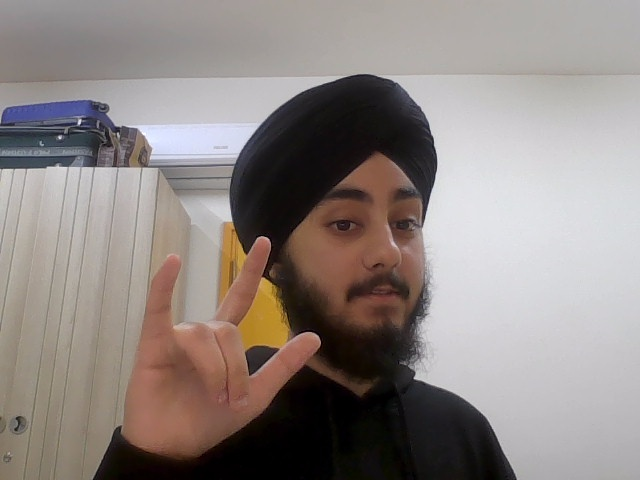ILoveYou: (122, 232, 321, 460)
